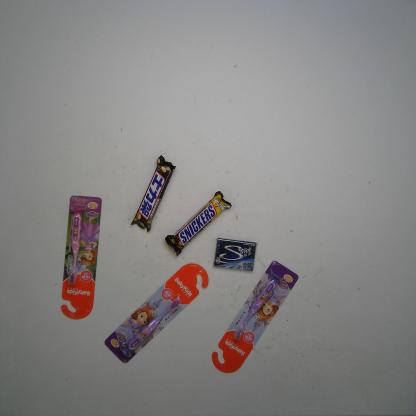Chocolate: (165, 191, 233, 257), (131, 155, 176, 232)
Gum: (214, 236, 258, 272)
Personal Hygiene: (104, 262, 209, 364), (211, 261, 298, 374), (60, 196, 102, 321)
